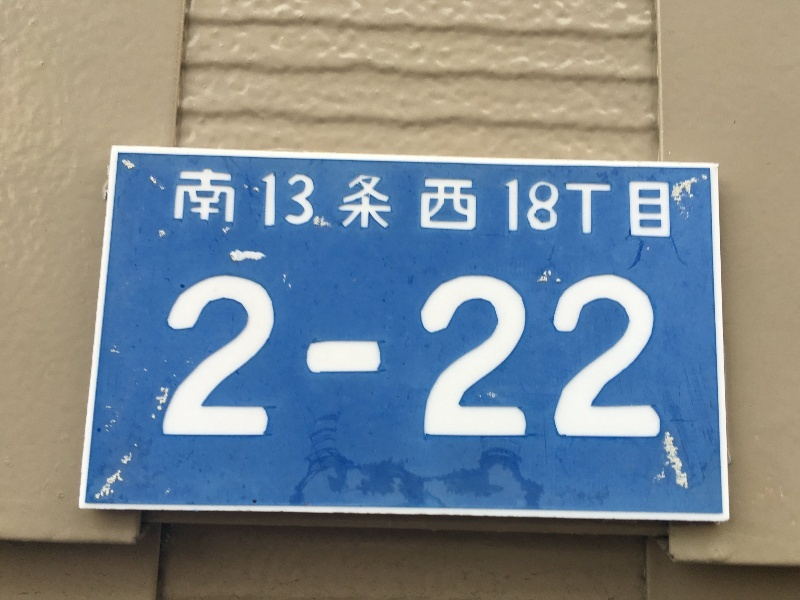text: (177, 271, 192, 441), (193, 271, 208, 441), (209, 271, 224, 441), (225, 271, 240, 441), (241, 271, 256, 441), (257, 271, 272, 441), (273, 271, 288, 441), (289, 271, 304, 441), (305, 271, 320, 441), (321, 271, 336, 441), (337, 271, 352, 441), (353, 271, 368, 441), (369, 271, 384, 441), (385, 271, 400, 441), (401, 271, 416, 441), (417, 271, 432, 441), (433, 271, 448, 441), (449, 271, 464, 441), (465, 271, 480, 441), (481, 271, 496, 441), (497, 271, 512, 441), (513, 271, 528, 441), (529, 271, 544, 441), (545, 271, 560, 441), (561, 271, 576, 441), (577, 271, 592, 441), (593, 271, 608, 441), (609, 271, 624, 441), (625, 271, 640, 441), (641, 271, 656, 441), (169, 271, 176, 441), (657, 271, 664, 441), (177, 167, 192, 240), (193, 167, 208, 240), (209, 167, 224, 240), (225, 167, 240, 240), (241, 167, 256, 240), (257, 167, 272, 240), (273, 167, 288, 240), (289, 167, 304, 240), (305, 167, 320, 240), (321, 167, 336, 240), (337, 167, 352, 240), (353, 167, 368, 240), (369, 167, 384, 240), (385, 167, 400, 240), (401, 167, 416, 240), (417, 167, 432, 240), (433, 167, 448, 240), (449, 167, 464, 240), (465, 167, 480, 240), (481, 167, 496, 240), (497, 167, 512, 240), (513, 167, 528, 240), (529, 167, 544, 240), (545, 167, 560, 240), (561, 167, 576, 240), (577, 167, 592, 240), (593, 167, 608, 240), (609, 167, 624, 240), (625, 167, 640, 240), (641, 167, 656, 240), (657, 167, 672, 240), (673, 167, 674, 240)
